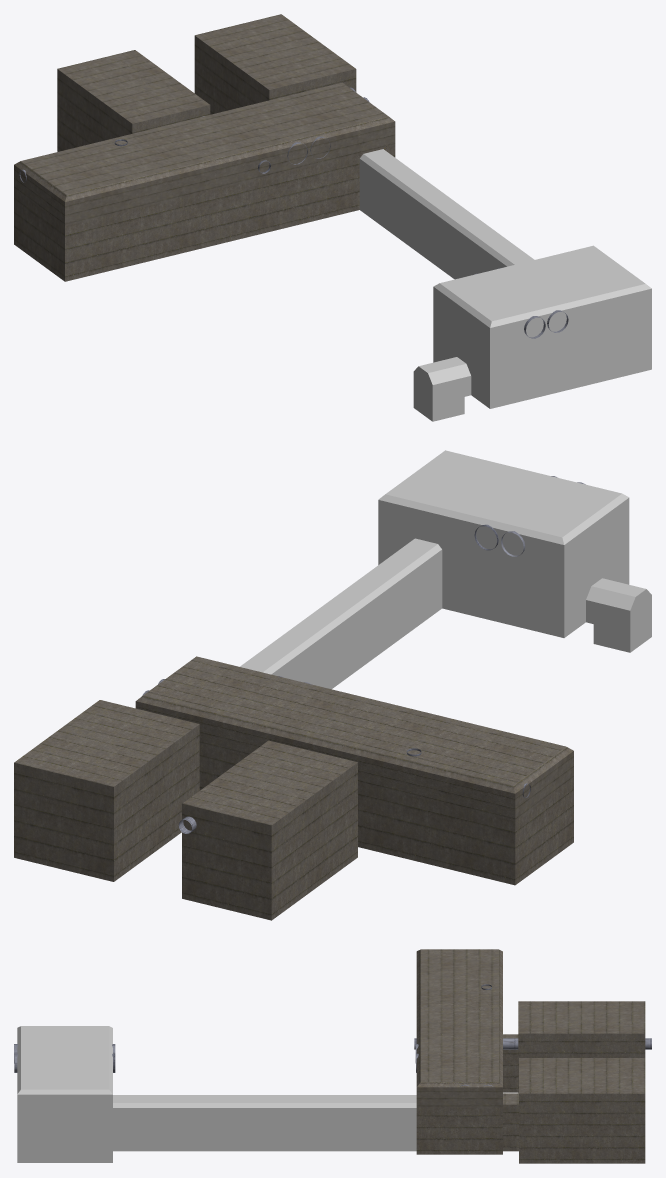
The model's file is basement_update1.fbx.
3 renders of one model, top to bottom at view 1: azimuth 30°, elevation 25°; view 2: azimuth 150°, elevation 25°; view 3: azimuth 270°, elevation 25°, orthographic. The views are drawn at different scales.
Visible parts, largest first — view 1: Room; view 2: Room; view 3: Room.
Boxes of the visible parts, <box> form: Room: <box>14,14,651,421</box>; Room: <box>14,450,651,920</box>; Room: <box>17,949,645,1163</box>.
Bounding box in the file's own units: 2168 × 605 × 4026.
